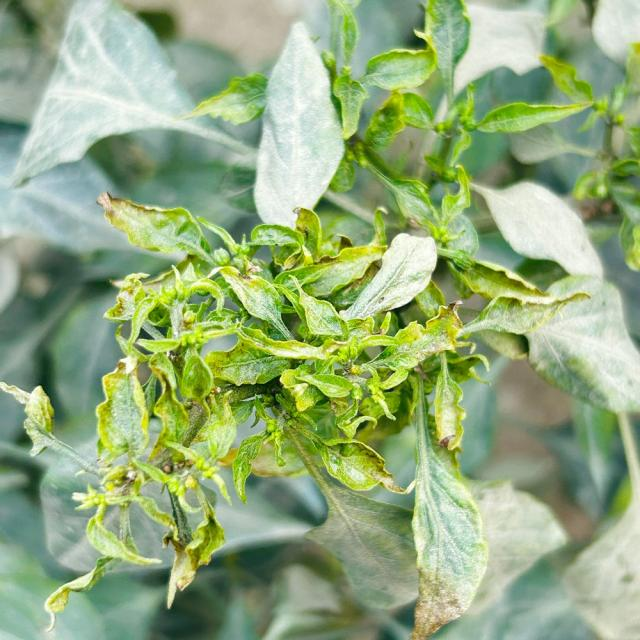Chilli_Leaf_Curl: (2, 1, 637, 636), (8, 0, 266, 189), (407, 368, 489, 638), (252, 20, 346, 231), (339, 231, 438, 322), (96, 190, 210, 258)
